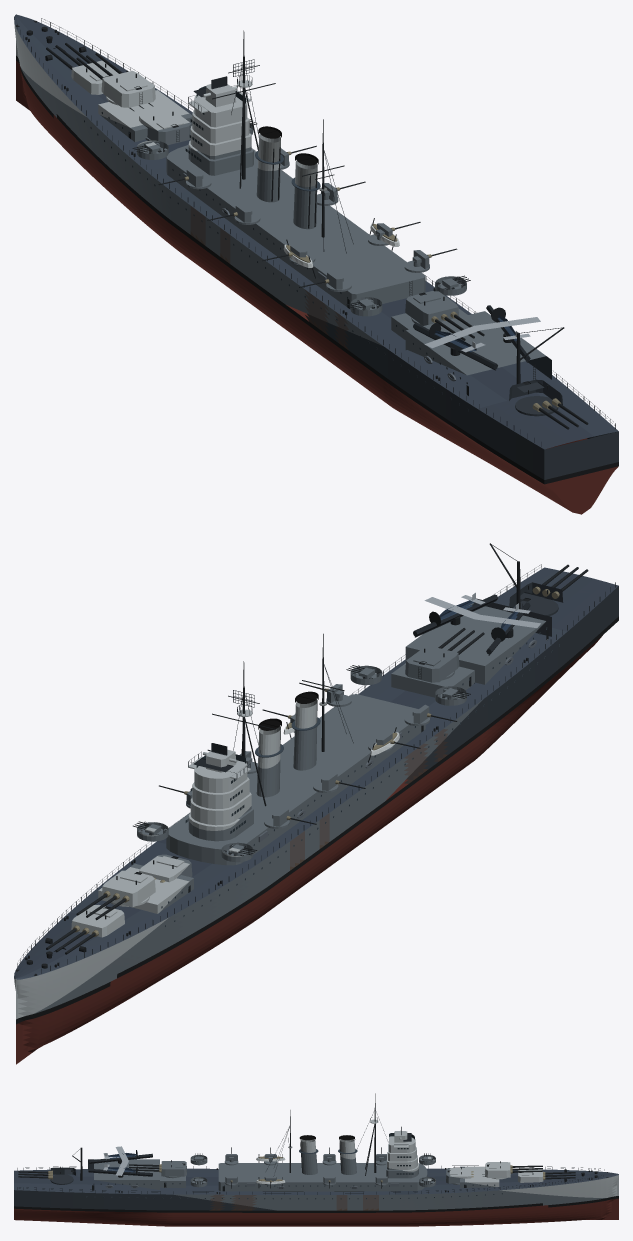
File: brooklyn_m22.glb
The picture shows the model from 3 angles, top to bottom: view 1: azimuth 30°, elevation 25°; view 2: azimuth 150°, elevation 25°; view 3: azimuth 270°, elevation 25°; orthographic projection. The views are drawn at different scales.
Visible parts, largest first — view 1: Hull, Turret2, Turret5, Turret4, Turret3, Turret1, Float2, Float1, Director; view 2: Hull, Turret4, Turret2, Turret1, Turret5, Turret3, Float1, Float2; view 3: Hull, Turret2, Turret4, Turret5, Turret1, Turret3, Float1, Float2.
Boxes of the visible parts, bbox=[...] form: Hull: bbox=[14, 14, 618, 514]; Turret2: bbox=[76, 53, 155, 107]; Turret5: bbox=[509, 379, 588, 429]; Turret4: bbox=[405, 291, 484, 340]; Turret3: bbox=[129, 103, 191, 144]; Turret1: bbox=[46, 43, 118, 94]; Float2: bbox=[424, 323, 485, 352]; Float1: bbox=[474, 307, 540, 341]; Director: bbox=[202, 76, 236, 107]; Hull: bbox=[14, 543, 618, 1064]; Turret4: bbox=[405, 628, 484, 682]; Turret2: bbox=[76, 870, 155, 920]; Turret1: bbox=[46, 905, 124, 954]; Turret5: bbox=[509, 564, 588, 616]; Turret3: bbox=[139, 854, 192, 882]; Float1: bbox=[424, 592, 485, 626]; Float2: bbox=[475, 603, 540, 641]; Hull: bbox=[14, 1093, 618, 1226]; Turret2: bbox=[485, 1161, 542, 1179]; Turret4: bbox=[129, 1160, 186, 1178]; Turret5: bbox=[18, 1166, 75, 1184]; Turret1: bbox=[518, 1169, 575, 1182]; Turret3: bbox=[446, 1167, 485, 1184]; Float1: bbox=[103, 1161, 137, 1175]; Float2: bbox=[103, 1146, 137, 1161].
Size of the model in its own units: 29.8 by 42.84 by 185.
